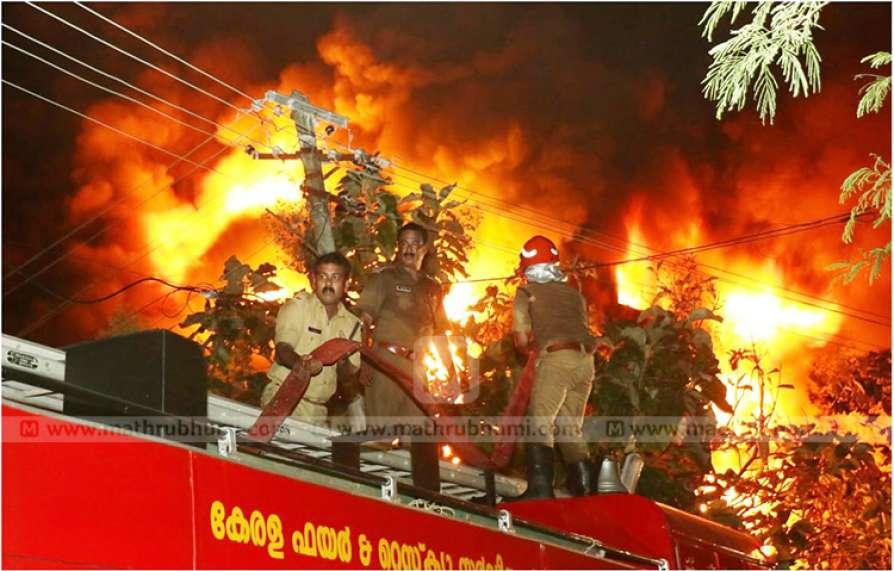Fire: (408, 245, 501, 400), (699, 270, 841, 367), (692, 353, 788, 463), (598, 226, 692, 332), (213, 262, 315, 335)
